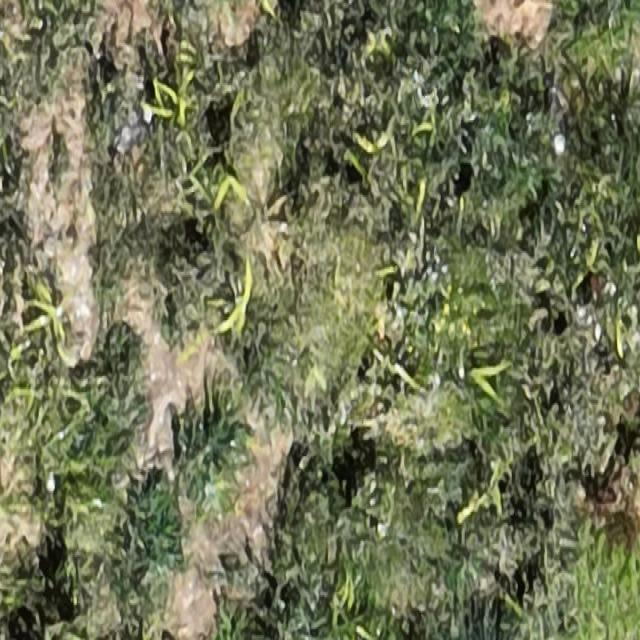umineko: (549, 91, 569, 156)
